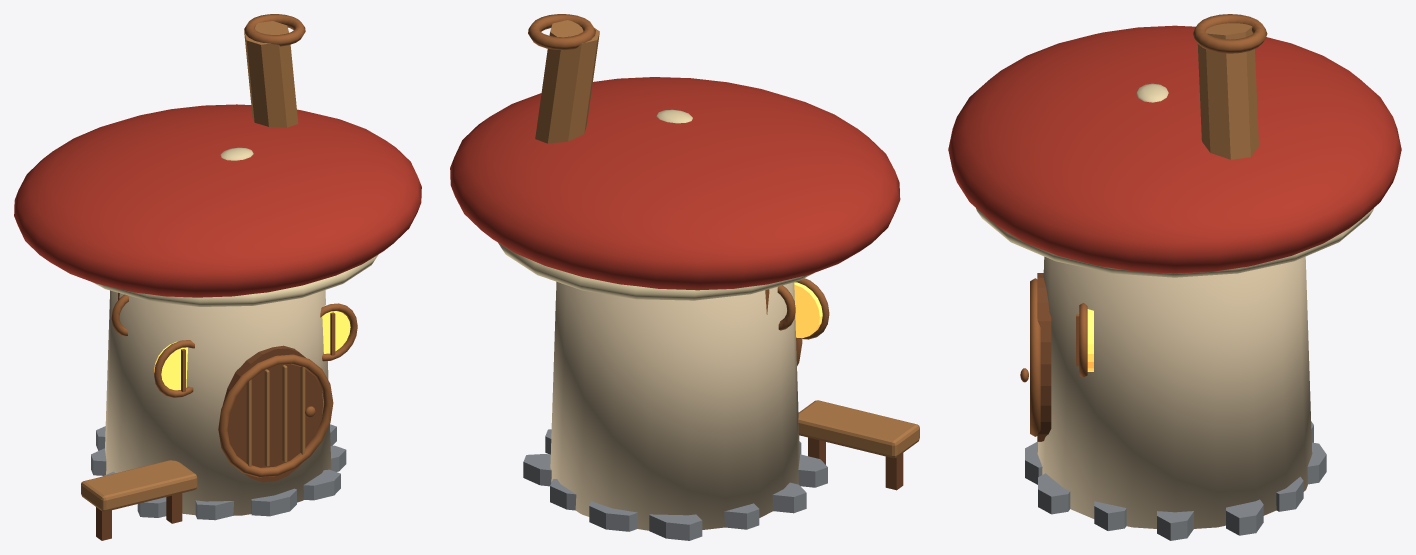
File: shroom_workshop.glb
The picture shows the model from 3 angles, left to right: view 1: azimuth 30°, elevation 25°; view 2: azimuth 150°, elevation 25°; view 3: azimuth 270°, elevation 25°; orthographic projection. The views are drawn at different scales.
Visible parts, largest first — view 1: mushroom_cap, organic_plaster_stem, round_door, brick_chimney, workbench, door_copper_frame, cap_underside_rim, chimney_cap, foundation_stone_9, foundation_stone_10, round_window.001, window_frame (+8 smaller); view 2: mushroom_cap, organic_plaster_stem, brick_chimney, workbench, cap_underside_rim, chimney_cap, foundation_stone_4, round_window, foundation_stone_3, foundation_stone_7, foundation_stone_6, foundation_stone_1 (+4 smaller); view 3: mushroom_cap, organic_plaster_stem, brick_chimney, cap_underside_rim, round_door, chimney_cap, door_copper_frame, foundation_stone_1, foundation_stone_10, foundation_stone_0, foundation_stone_11, foundation_stone_2 (+3 smaller).
Boxes of the visible parts, bbox=[...] form: mushroom_cap: bbox=[14, 104, 421, 297]; organic_plaster_stem: bbox=[105, 290, 331, 515]; round_door: bbox=[223, 345, 323, 482]; brick_chimney: bbox=[244, 21, 298, 127]; workbench: bbox=[81, 460, 197, 511]; door_copper_frame: bbox=[218, 354, 333, 477]; cap_underside_rim: bbox=[92, 254, 378, 306]; chimney_cap: bbox=[244, 14, 305, 46]; foundation_stone_9: bbox=[251, 488, 296, 516]; foundation_stone_10: bbox=[303, 469, 340, 500]; round_window.001: bbox=[322, 305, 350, 353]; window_frame: bbox=[154, 340, 194, 397]; mushroom_cap: bbox=[450, 77, 900, 290]; organic_plaster_stem: bbox=[550, 281, 799, 530]; brick_chimney: bbox=[535, 20, 599, 143]; workbench: bbox=[798, 400, 919, 457]; cap_underside_rim: bbox=[498, 242, 813, 300]; chimney_cap: bbox=[528, 14, 595, 50]; foundation_stone_4: bbox=[649, 514, 702, 540]; round_window: bbox=[794, 282, 822, 338]; foundation_stone_3: bbox=[589, 501, 637, 531]; foundation_stone_7: bbox=[798, 454, 827, 487]; foundation_stone_6: bbox=[772, 482, 806, 513]; foundation_stone_1: bbox=[523, 454, 551, 486]; mushroom_cap: bbox=[948, 25, 1401, 273]; organic_plaster_stem: bbox=[1037, 256, 1312, 528]; brick_chimney: bbox=[1197, 23, 1258, 159]; cap_underside_rim: bbox=[976, 208, 1373, 277]; round_door: bbox=[1037, 273, 1051, 441]; chimney_cap: bbox=[1193, 14, 1267, 53]; door_copper_frame: bbox=[1030, 278, 1040, 436]; foundation_stone_1: bbox=[1226, 499, 1263, 535]; foundation_stone_10: bbox=[1038, 473, 1070, 514]; foundation_stone_0: bbox=[1157, 511, 1193, 540]; foundation_stone_11: bbox=[1094, 501, 1126, 530]; foundation_stone_2: bbox=[1276, 476, 1303, 511].
Bounding box in the file's own units: 5.7 × 6.09 × 5.1.
